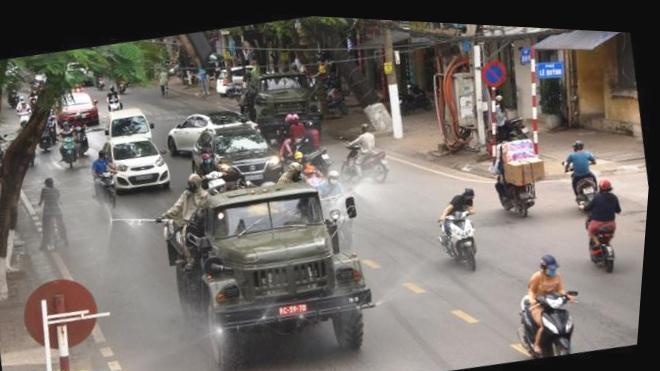License_Plate: (278, 299, 311, 319), (239, 171, 269, 185), (132, 174, 156, 185), (518, 189, 531, 202)
